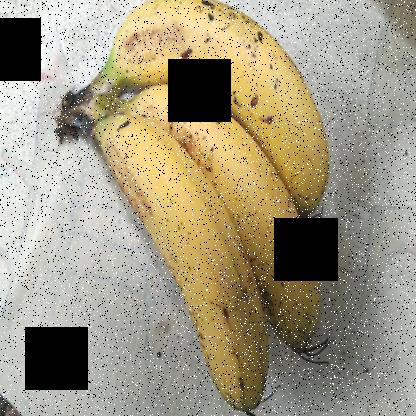ripe: (133, 80, 332, 366), (93, 112, 278, 415), (95, 1, 344, 220)
